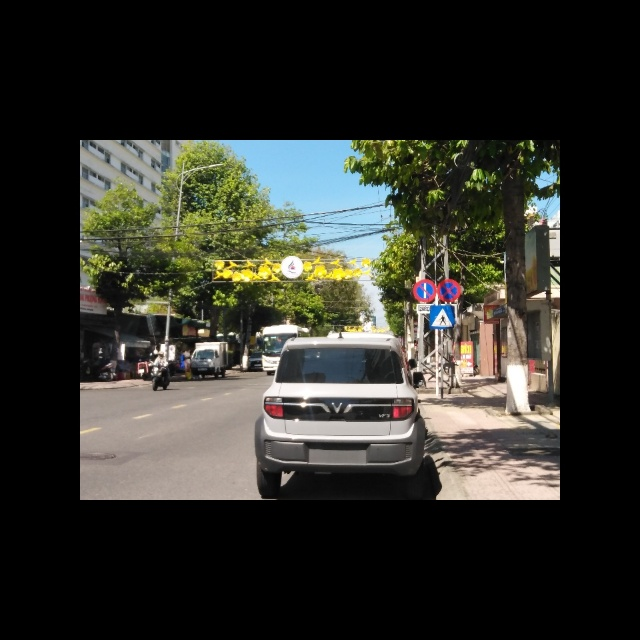Cấm dừng xe và đỗ xe: (437, 278, 461, 304)
Cấm đỗ xe ngày lẻ: (412, 279, 437, 303)
Đường dành cho người đi bộ: (430, 305, 455, 331)
